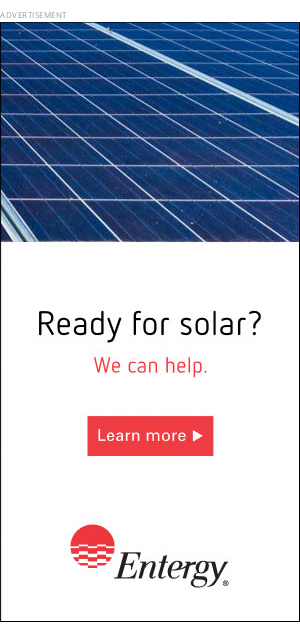fake_button: (74, 409, 225, 468)
